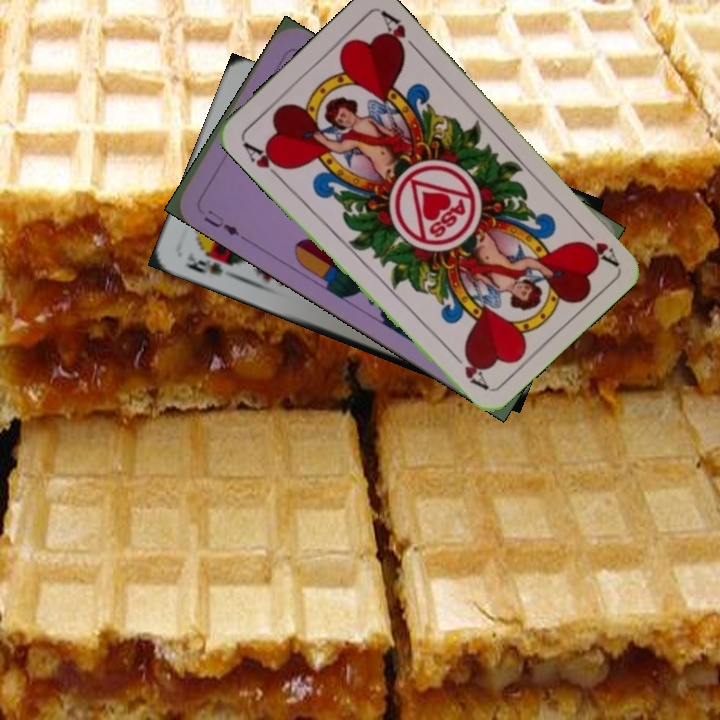EU: (200, 206, 246, 242)
HA: (238, 137, 291, 183), (574, 219, 621, 268)
SK: (180, 248, 236, 278)
